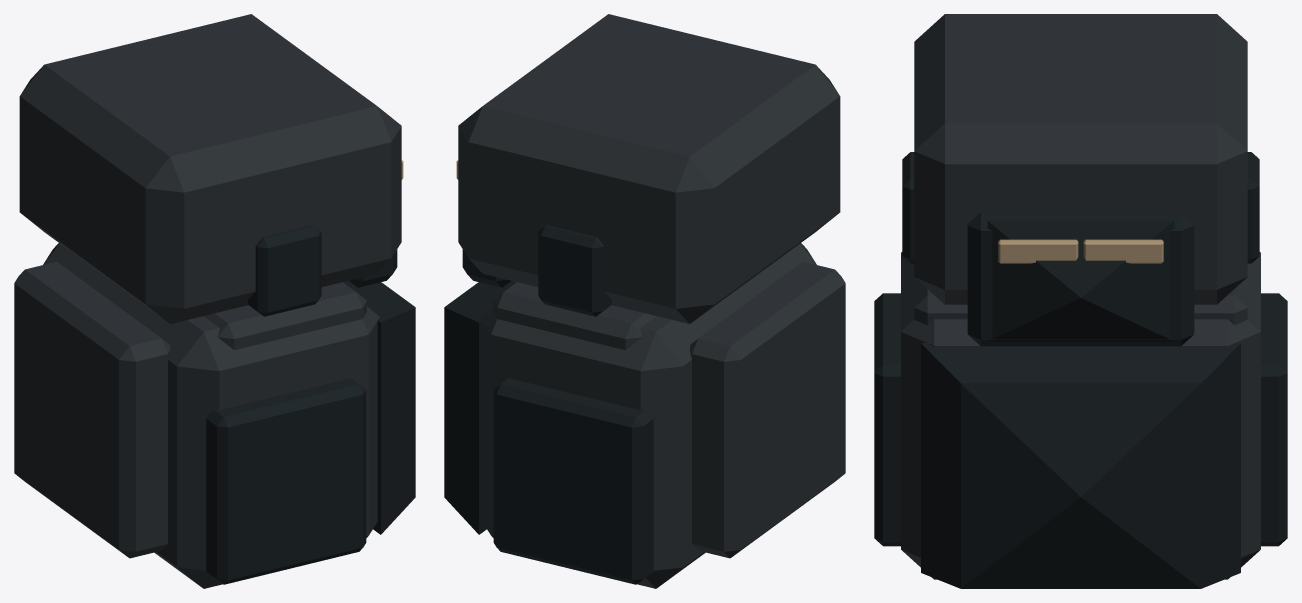
Rendered from obsidian.signature.glb.
3 views of the same model, side by side, from view 1: azimuth 30°, elevation 25°; view 2: azimuth 150°, elevation 25°; view 3: azimuth 270°, elevation 25° (orthographic). The views are drawn at different scales.
Visible parts, largest first — view 1: obsidian_signature__main__torso, obsidian_signature__main__head_cosmetic_2b3034_0.12, obsidian_signature__main__torso_cosmetic_171e21_0.22, obsidian_signature__main__head, obsidian_signature__main__head_cosmetic_171e21_0.16; view 2: obsidian_signature__main__torso, obsidian_signature__main__head_cosmetic_2b3034_0.12, obsidian_signature__main__torso_cosmetic_171e21_0.22, obsidian_signature__main__head, obsidian_signature__main__head_cosmetic_171e21_0.16; view 3: obsidian_signature__main__torso_cosmetic_171e21_0.22, obsidian_signature__main__head_cosmetic_2b3034_0.12, obsidian_signature__main__torso, obsidian_signature__main__head_cosmetic_171e21_0.28, obsidian_signature__main__head_cosmetic_171e21_0.16, obsidian_signature__main__head_cosmetic_ac9475_0.4, obsidian_signature__main__head.
Boxes of the visible parts, left/top/right/bottom form: obsidian_signature__main__torso: left=14, top=243, right=379, bottom=588; obsidian_signature__main__head_cosmetic_2b3034_0.12: left=19, top=14, right=401, bottom=323; obsidian_signature__main__torso_cosmetic_171e21_0.22: left=343, top=281, right=415, bottom=534; obsidian_signature__main__head: left=248, top=225, right=321, bottom=316; obsidian_signature__main__head_cosmetic_171e21_0.16: left=348, top=249, right=397, bottom=287; obsidian_signature__main__torso: left=480, top=243, right=845, bottom=588; obsidian_signature__main__head_cosmetic_2b3034_0.12: left=458, top=14, right=840, bottom=323; obsidian_signature__main__torso_cosmetic_171e21_0.22: left=444, top=281, right=516, bottom=534; obsidian_signature__main__head: left=538, top=225, right=611, bottom=316; obsidian_signature__main__head_cosmetic_171e21_0.16: left=462, top=249, right=511, bottom=287; obsidian_signature__main__torso_cosmetic_171e21_0.22: left=921, top=343, right=1240, bottom=588; obsidian_signature__main__head_cosmetic_2b3034_0.12: left=914, top=14, right=1247, bottom=304; obsidian_signature__main__torso: left=874, top=252, right=1287, bottom=579; obsidian_signature__main__head_cosmetic_171e21_0.28: left=987, top=220, right=1174, bottom=341; obsidian_signature__main__head_cosmetic_171e21_0.16: left=967, top=212, right=1194, bottom=346; obsidian_signature__main__head_cosmetic_ac9475_0.4: left=998, top=239, right=1163, bottom=263; obsidian_signature__main__head: left=902, top=152, right=1259, bottom=263.
Size of the model in its own units: 30.5 by 39 by 31.
